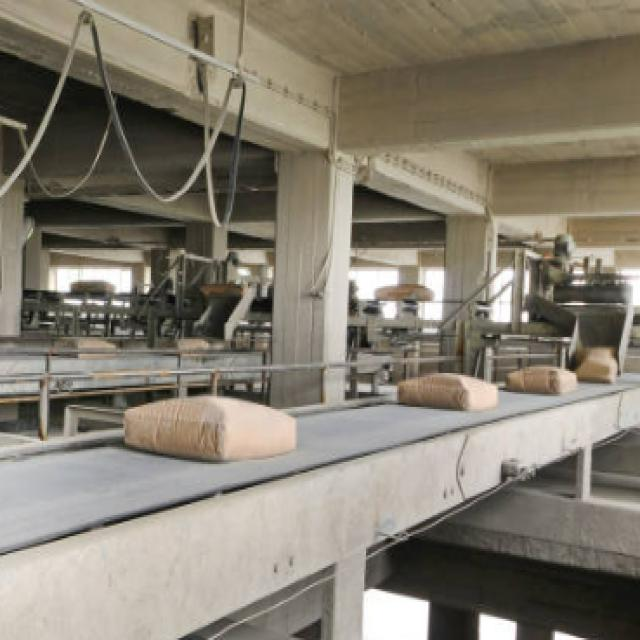KantongSemen: (120, 392, 296, 462), (394, 371, 501, 417), (510, 360, 578, 400)
